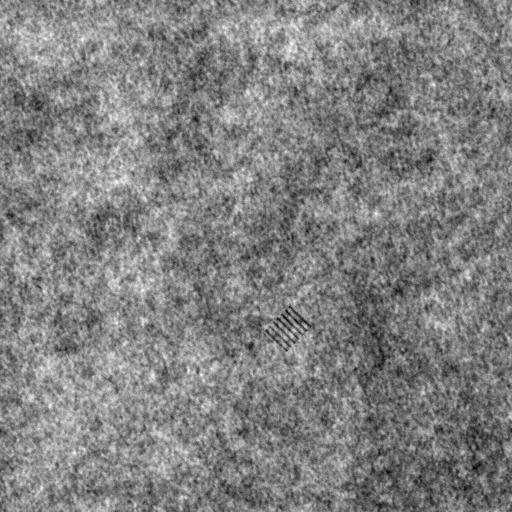DefectTypeB: (267, 304, 309, 348)
